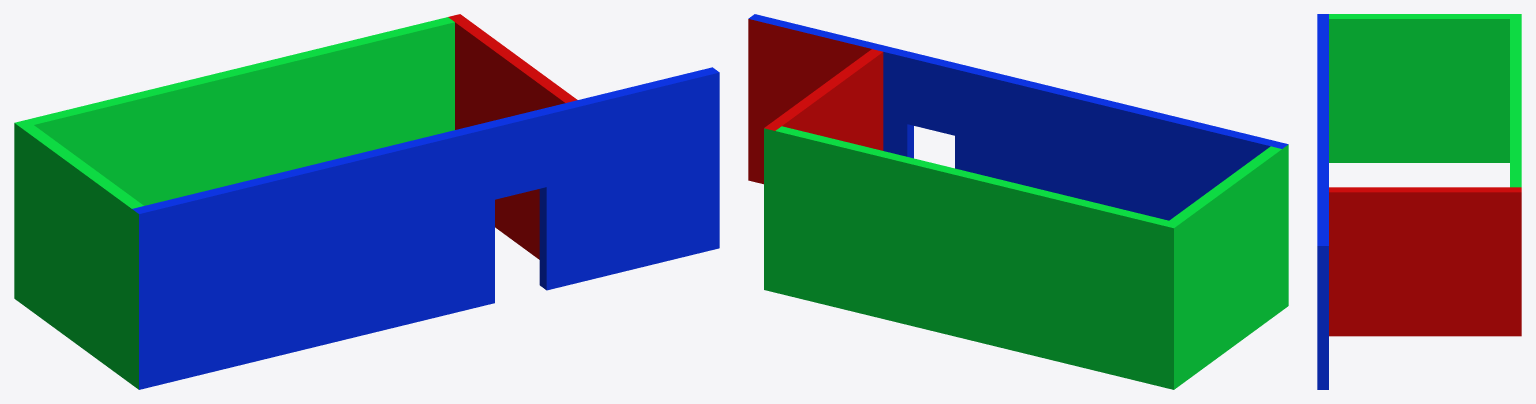
The model's file is BankStorageAreaWalls2.FBX.
3 renders of one model, left to right at view 1: azimuth 30°, elevation 25°; view 2: azimuth 150°, elevation 25°; view 3: azimuth 270°, elevation 25°, orthographic. The views are drawn at different scales.
Visible parts, largest first — view 1: BankStorageAreaWalls2; view 2: BankStorageAreaWalls2; view 3: BankStorageAreaWalls2.
Boxes of the visible parts, x1,y1,x2,y2 form: BankStorageAreaWalls2: (14,14,719,389); BankStorageAreaWalls2: (748,14,1288,389); BankStorageAreaWalls2: (1317,14,1521,389).
Bounding box in the file's own units: 1194 × 345 × 444.
